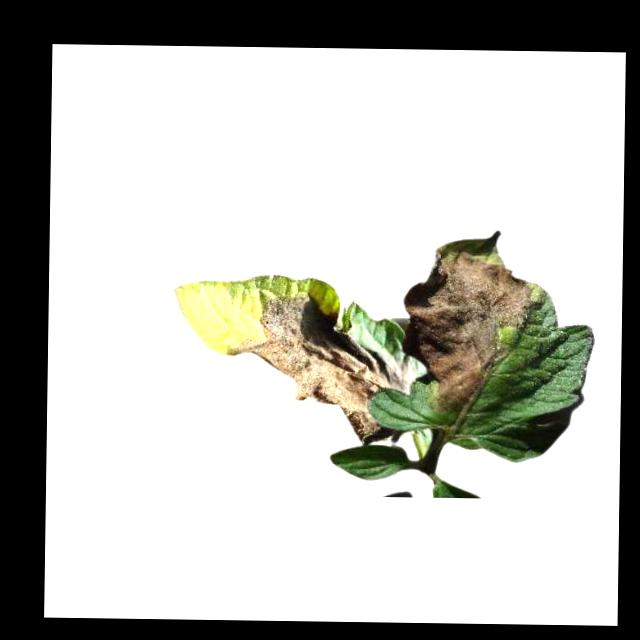Late_blight: (222, 290, 417, 445), (401, 227, 536, 416)
healthy: (330, 446, 410, 481)
